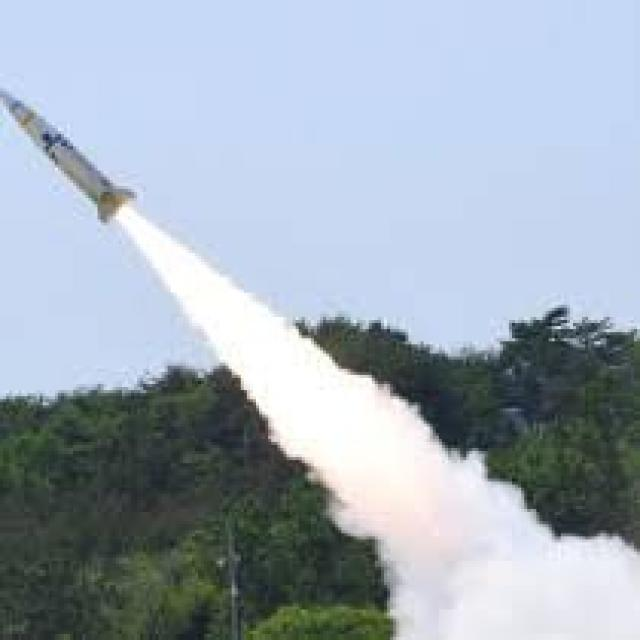missile: (0, 83, 135, 215)
